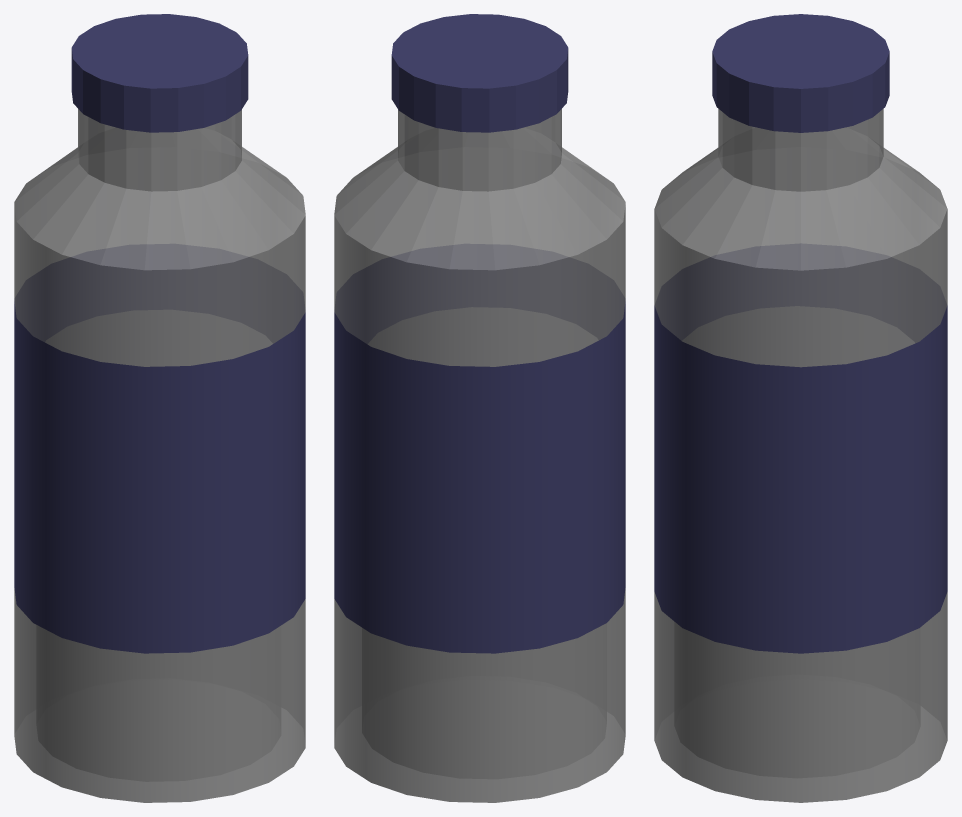
Rendered from botellaMediana.fbx.
3 views of the same model, side by side, from view 1: azimuth 30°, elevation 25°; view 2: azimuth 150°, elevation 25°; view 3: azimuth 270°, elevation 25° (orthographic).
Parts seen in each view (by area): view 1: pCylinder36; view 2: pCylinder36; view 3: pCylinder36.
Part boxes in pixels (left/top/right/bottom): pCylinder36: left=14, top=14, right=305, bottom=802; pCylinder36: left=334, top=14, right=625, bottom=802; pCylinder36: left=654, top=14, right=947, bottom=802.
Bounding box in the file's own units: 0.3101 × 0.8052 × 0.3101.
